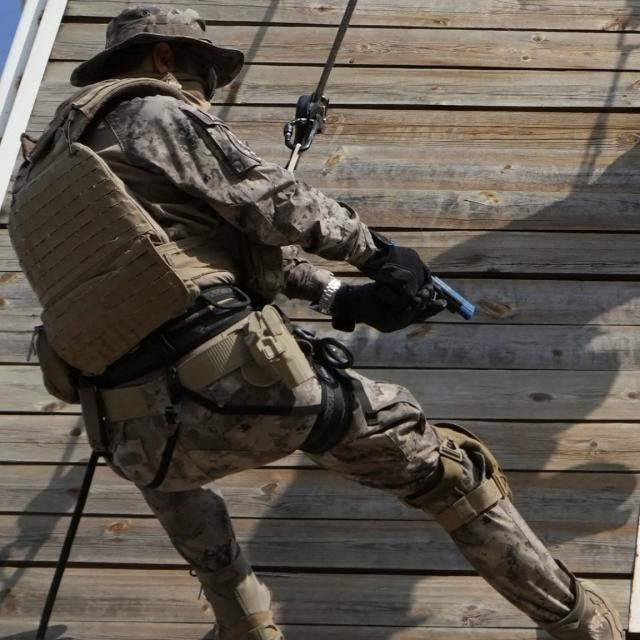poh_personel: (12, 4, 627, 640)
